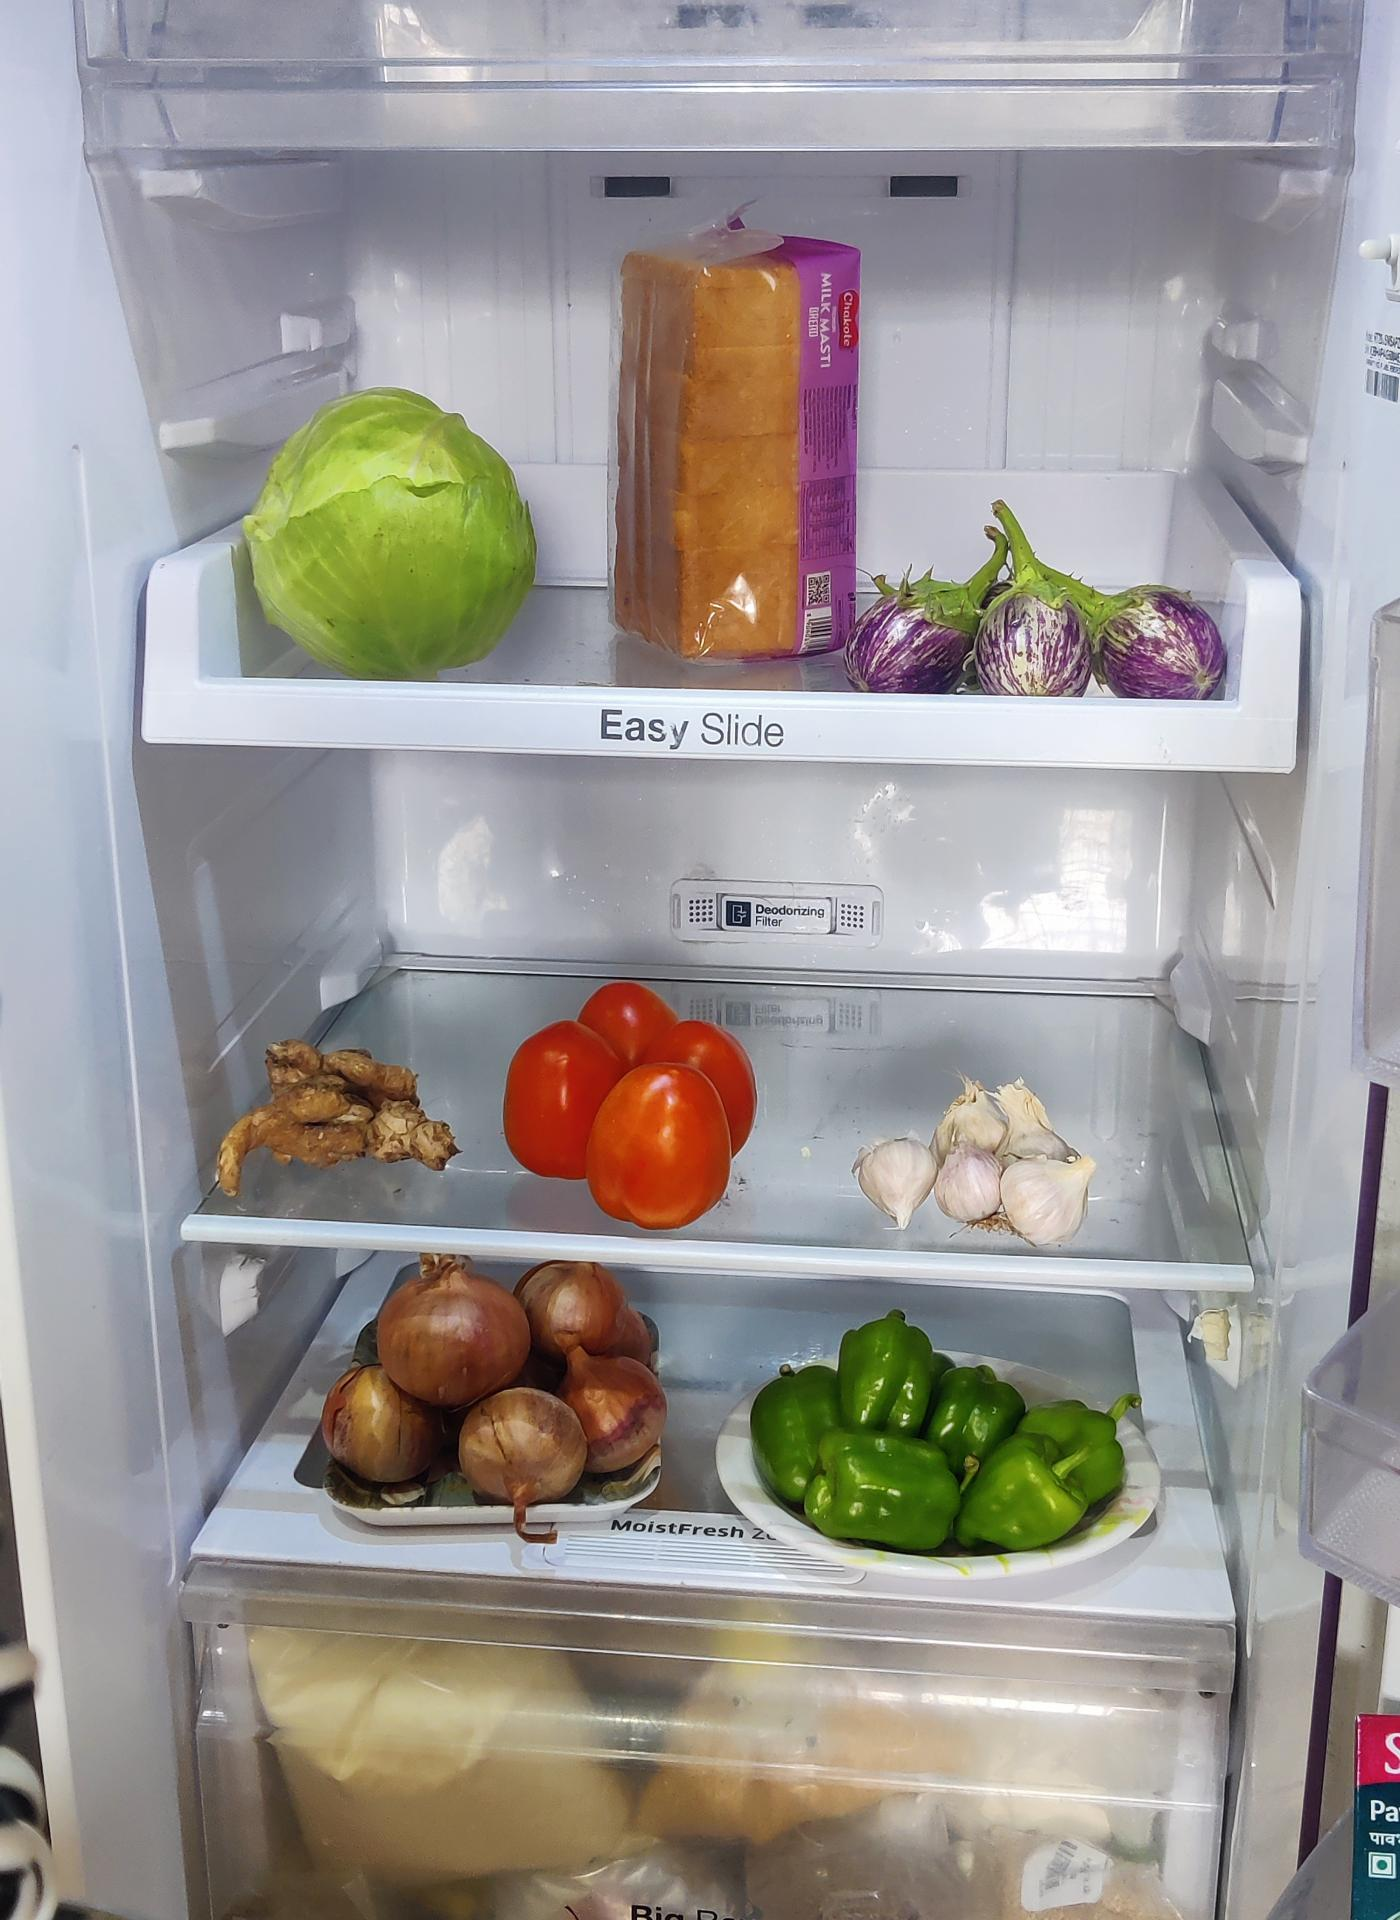bread: (605, 219, 869, 660)
brinjal: (836, 534, 1221, 690)
cabbage: (246, 385, 544, 672)
capsicum: (751, 1316, 1141, 1555)
garlic: (854, 1069, 1096, 1242)
ginger: (207, 1039, 462, 1182)
onion: (321, 1251, 669, 1501)
tomato: (504, 970, 760, 1215)
